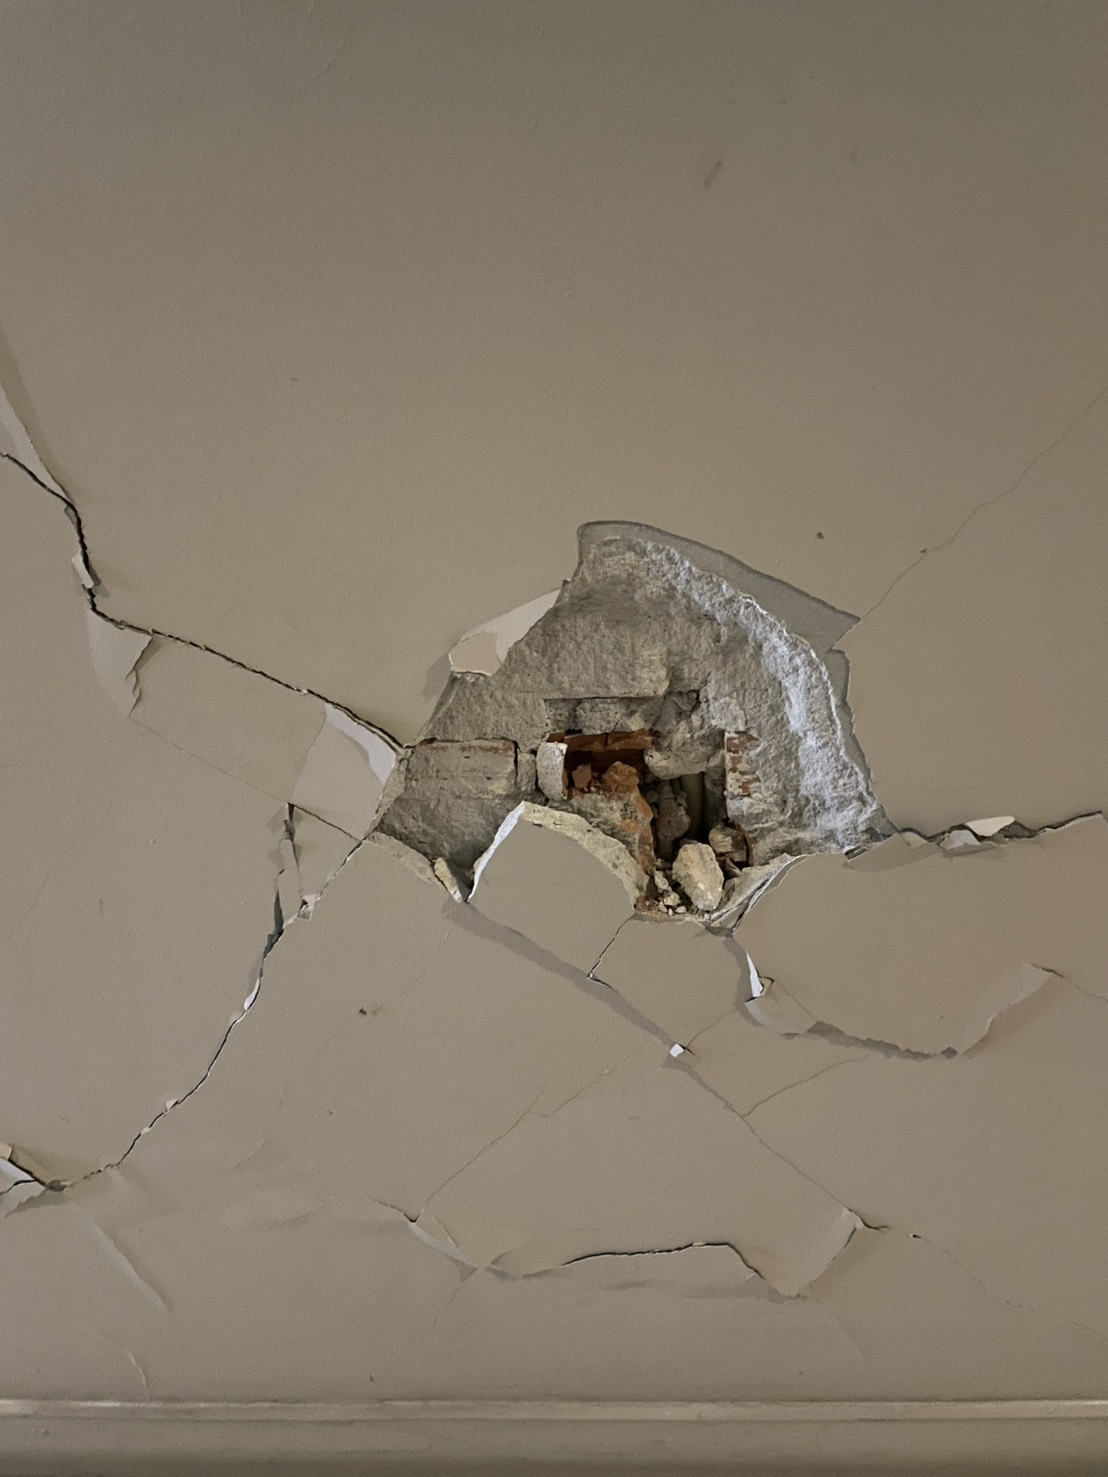Medium: (15, 419, 1053, 1162)
